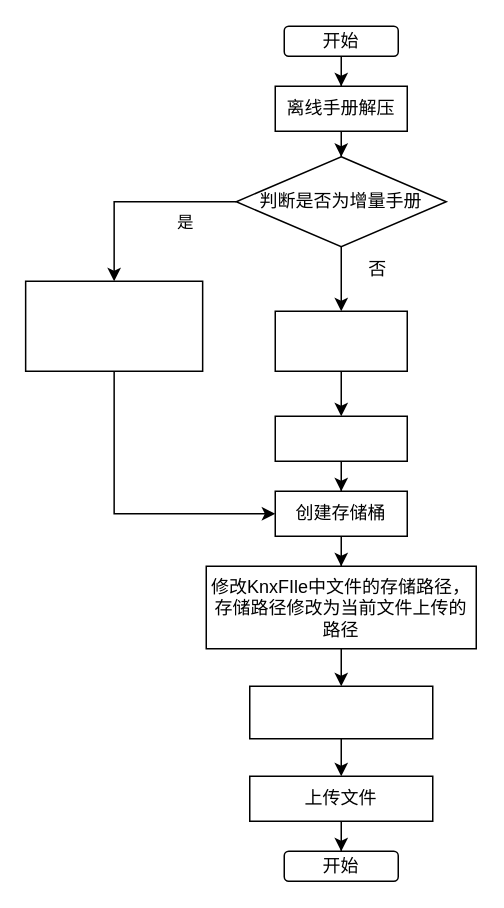
Some shapes in this 504 by 908 pixel diagram are drawn without their labels. Here are the shapes that lost their labels. From the top down, the box of each, then its label:
(24, 280, 203, 371): 在原手册基础上更新手册描述信息、jobID仍使用原手册的jobID
(274, 310, 407, 371): 删除同版本旧手册信息
(274, 415, 407, 461): 插入手册信息
(248, 685, 433, 739): 导入所有数据
